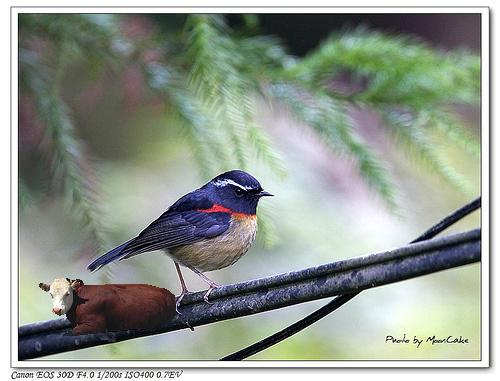tampered: (40, 279, 176, 336)
